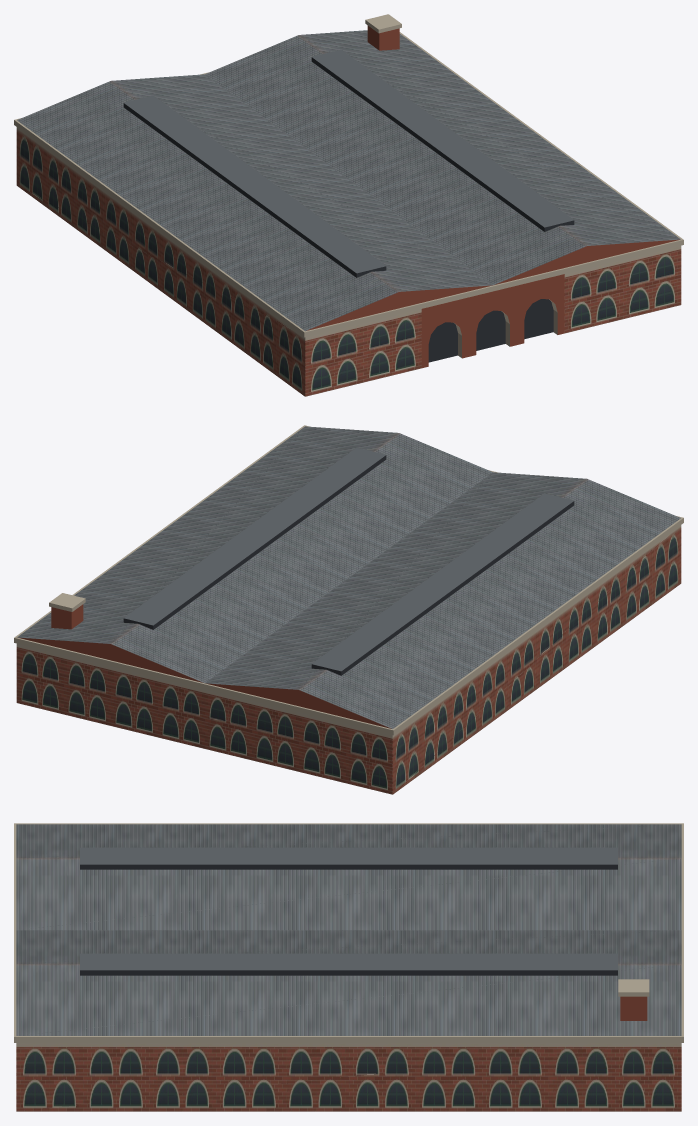
File: cable_car_barn.glb
3 renders of one model, top to bottom at view 1: azimuth 30°, elevation 25°; view 2: azimuth 150°, elevation 25°; view 3: azimuth 270°, elevation 25°, orthographic. The views are drawn at different scales.
Visible parts, largest first — view 1: cable_car_barn; view 2: cable_car_barn; view 3: cable_car_barn.
Part boxes in pixels (<box>): cable_car_barn: <box>14,14,683,396</box>; cable_car_barn: <box>14,425,683,794</box>; cable_car_barn: <box>14,823,683,1111</box>.
Bounding box in the file's own units: 63 × 14.99 × 83.5.
Materials: 2 (2 with a texture image).
